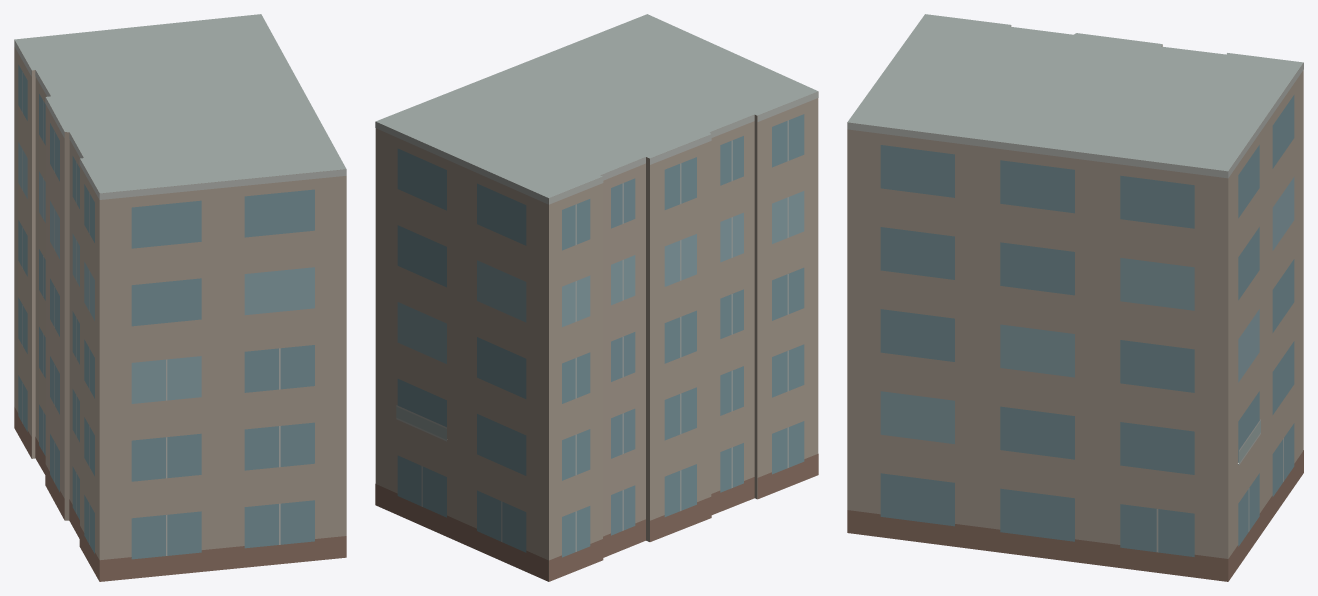
The model's file is survey-upis-32872751.glb.
3 views of the same model, side by side, from view 1: azimuth 30°, elevation 25°; view 2: azimuth 150°, elevation 25°; view 3: azimuth 270°, elevation 25° (orthographic). The views are drawn at different scales.
Parts seen in each view (by area): view 1: survey-upis-32872751.tmp; view 2: survey-upis-32872751.tmp; view 3: survey-upis-32872751.tmp.
Part boxes in pixels (x1,y1,x2,y2): survey-upis-32872751.tmp: (14, 14, 346, 581); survey-upis-32872751.tmp: (375, 14, 818, 581); survey-upis-32872751.tmp: (847, 14, 1303, 581).
Size of the model in its own units: 11.76 by 14.3 by 14.42.
